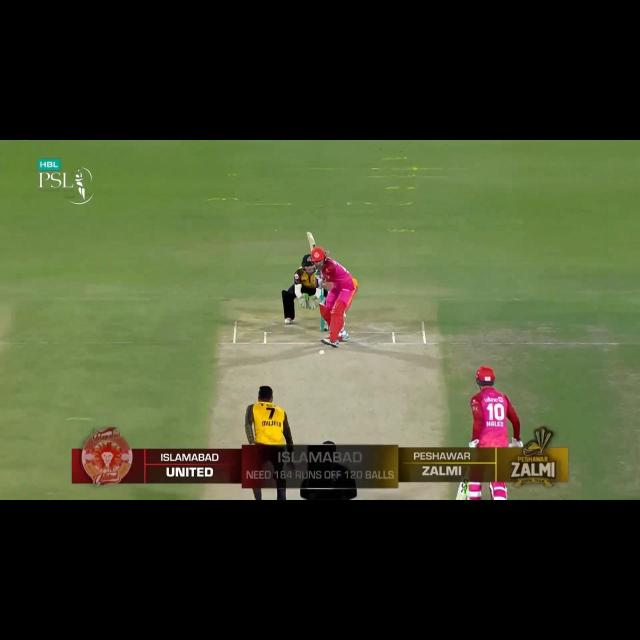bat: (306, 231, 317, 251)
toe: (454, 484, 466, 500), (305, 231, 314, 240)
